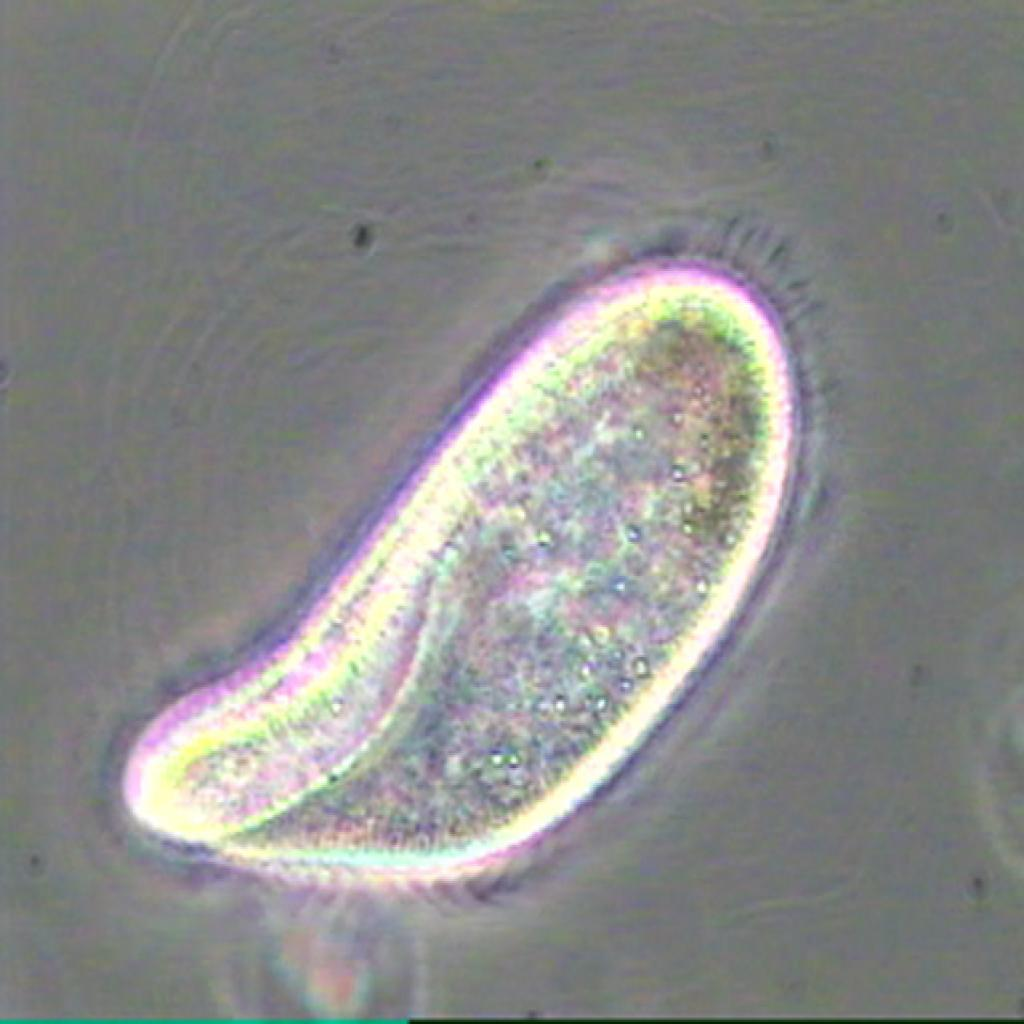Paramecium: (42, 202, 878, 929)
